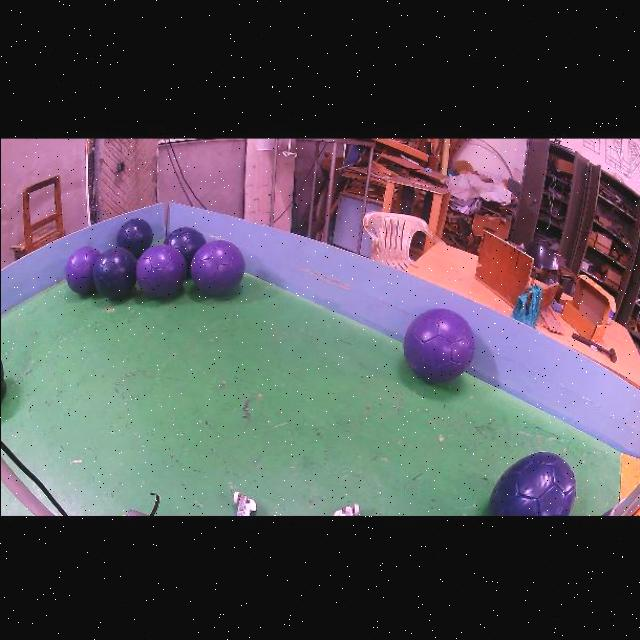B: (488, 454, 575, 515), (92, 247, 136, 299), (162, 226, 206, 275), (115, 218, 152, 258)
P: (402, 308, 473, 382), (190, 240, 244, 294), (135, 244, 186, 298), (64, 245, 99, 294)
